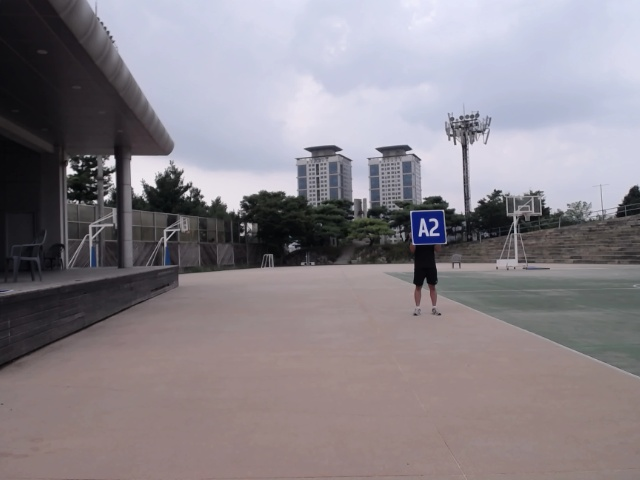delivery_a2: (410, 211, 446, 244)
